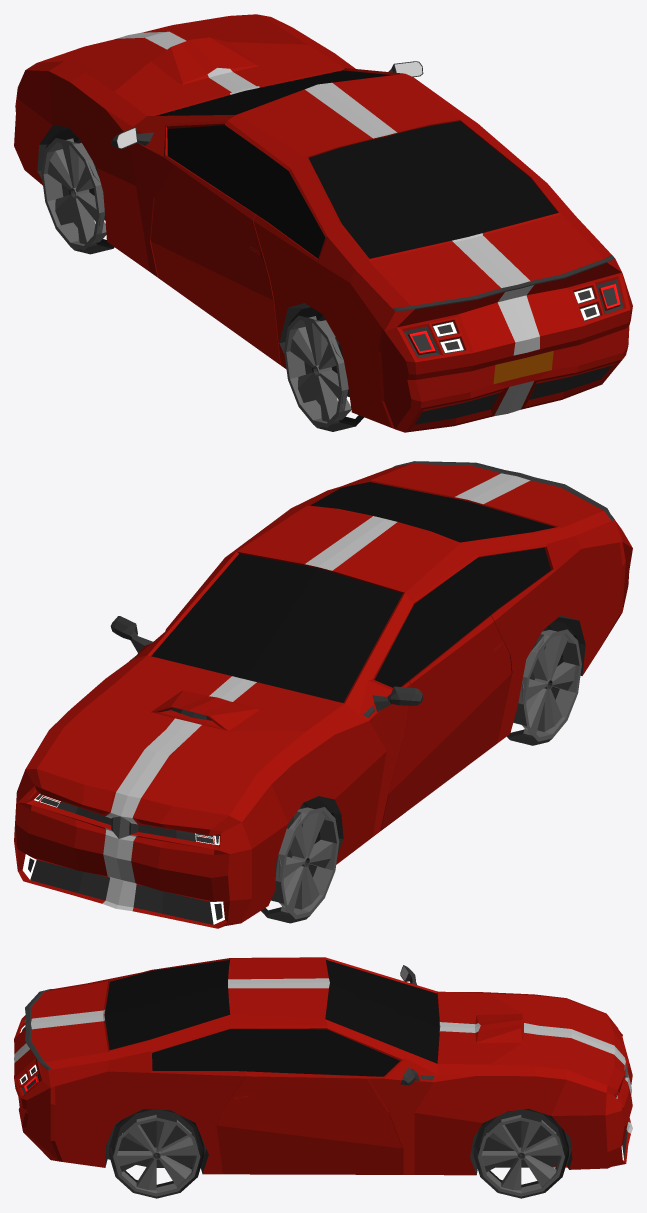
The model's file is muscle_car.fbx.
3 views of the same model, one above another, from view 1: azimuth 30°, elevation 25°; view 2: azimuth 150°, elevation 25°; view 3: azimuth 270°, elevation 25° (orthographic). The views are drawn at different scales.
Visible parts, largest first — view 1: Car; view 2: Car; view 3: Car.
Part boxes in pixels (x1,y1,x2,y2): Car: (14,14,632,432); Car: (14,461,632,928); Car: (14,957,632,1198).
Bounding box in the file's own units: 289 × 206 × 666.
